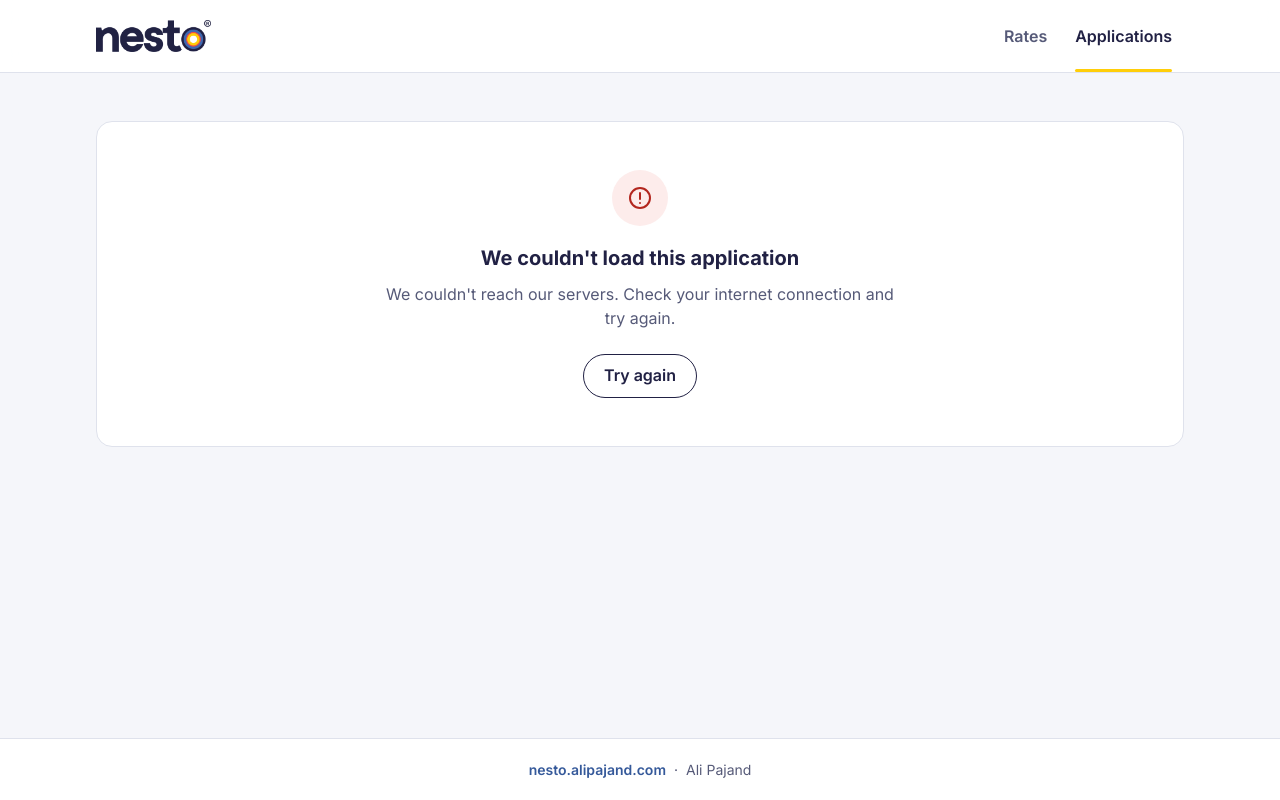
Test case: ApplicationPage › offers to retry when the application cannot be loaded
Expected: the message shows "We couldn't load this application", [481,246,799,270]
Click the button "Try again" at x=640, y=376, box [583,354,697,398]
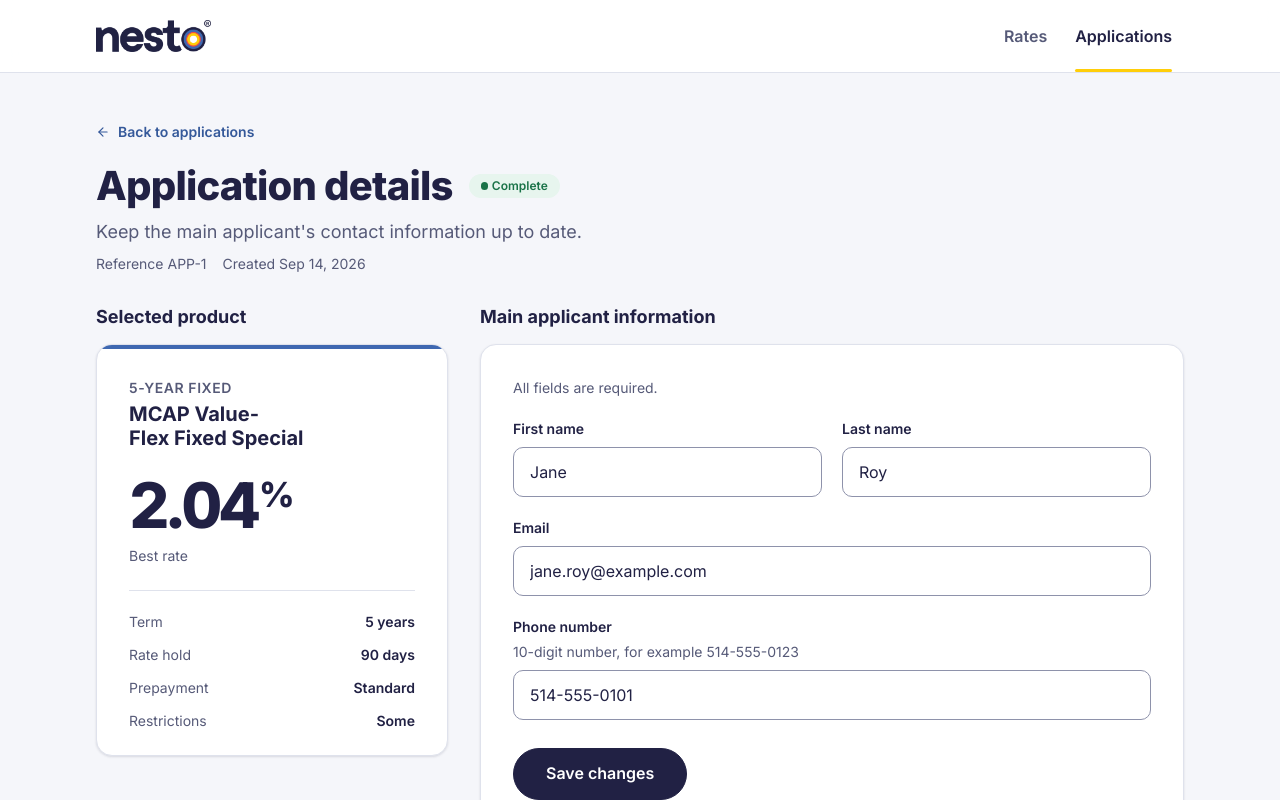
Expected: the field labelled "First name" holds "Jane", [513,447,822,497]
